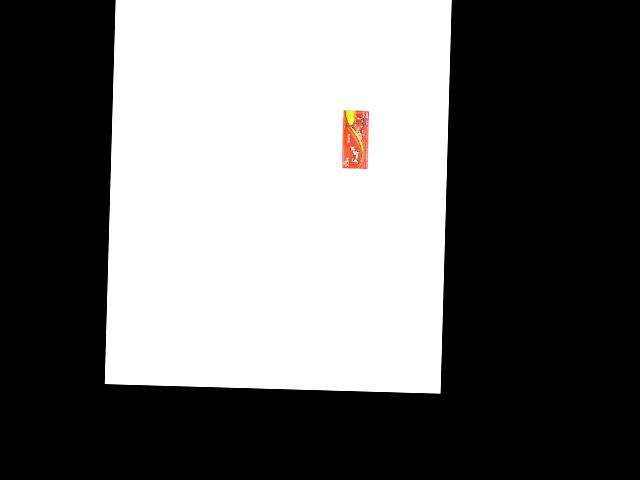chocolate: (339, 108, 374, 173)
